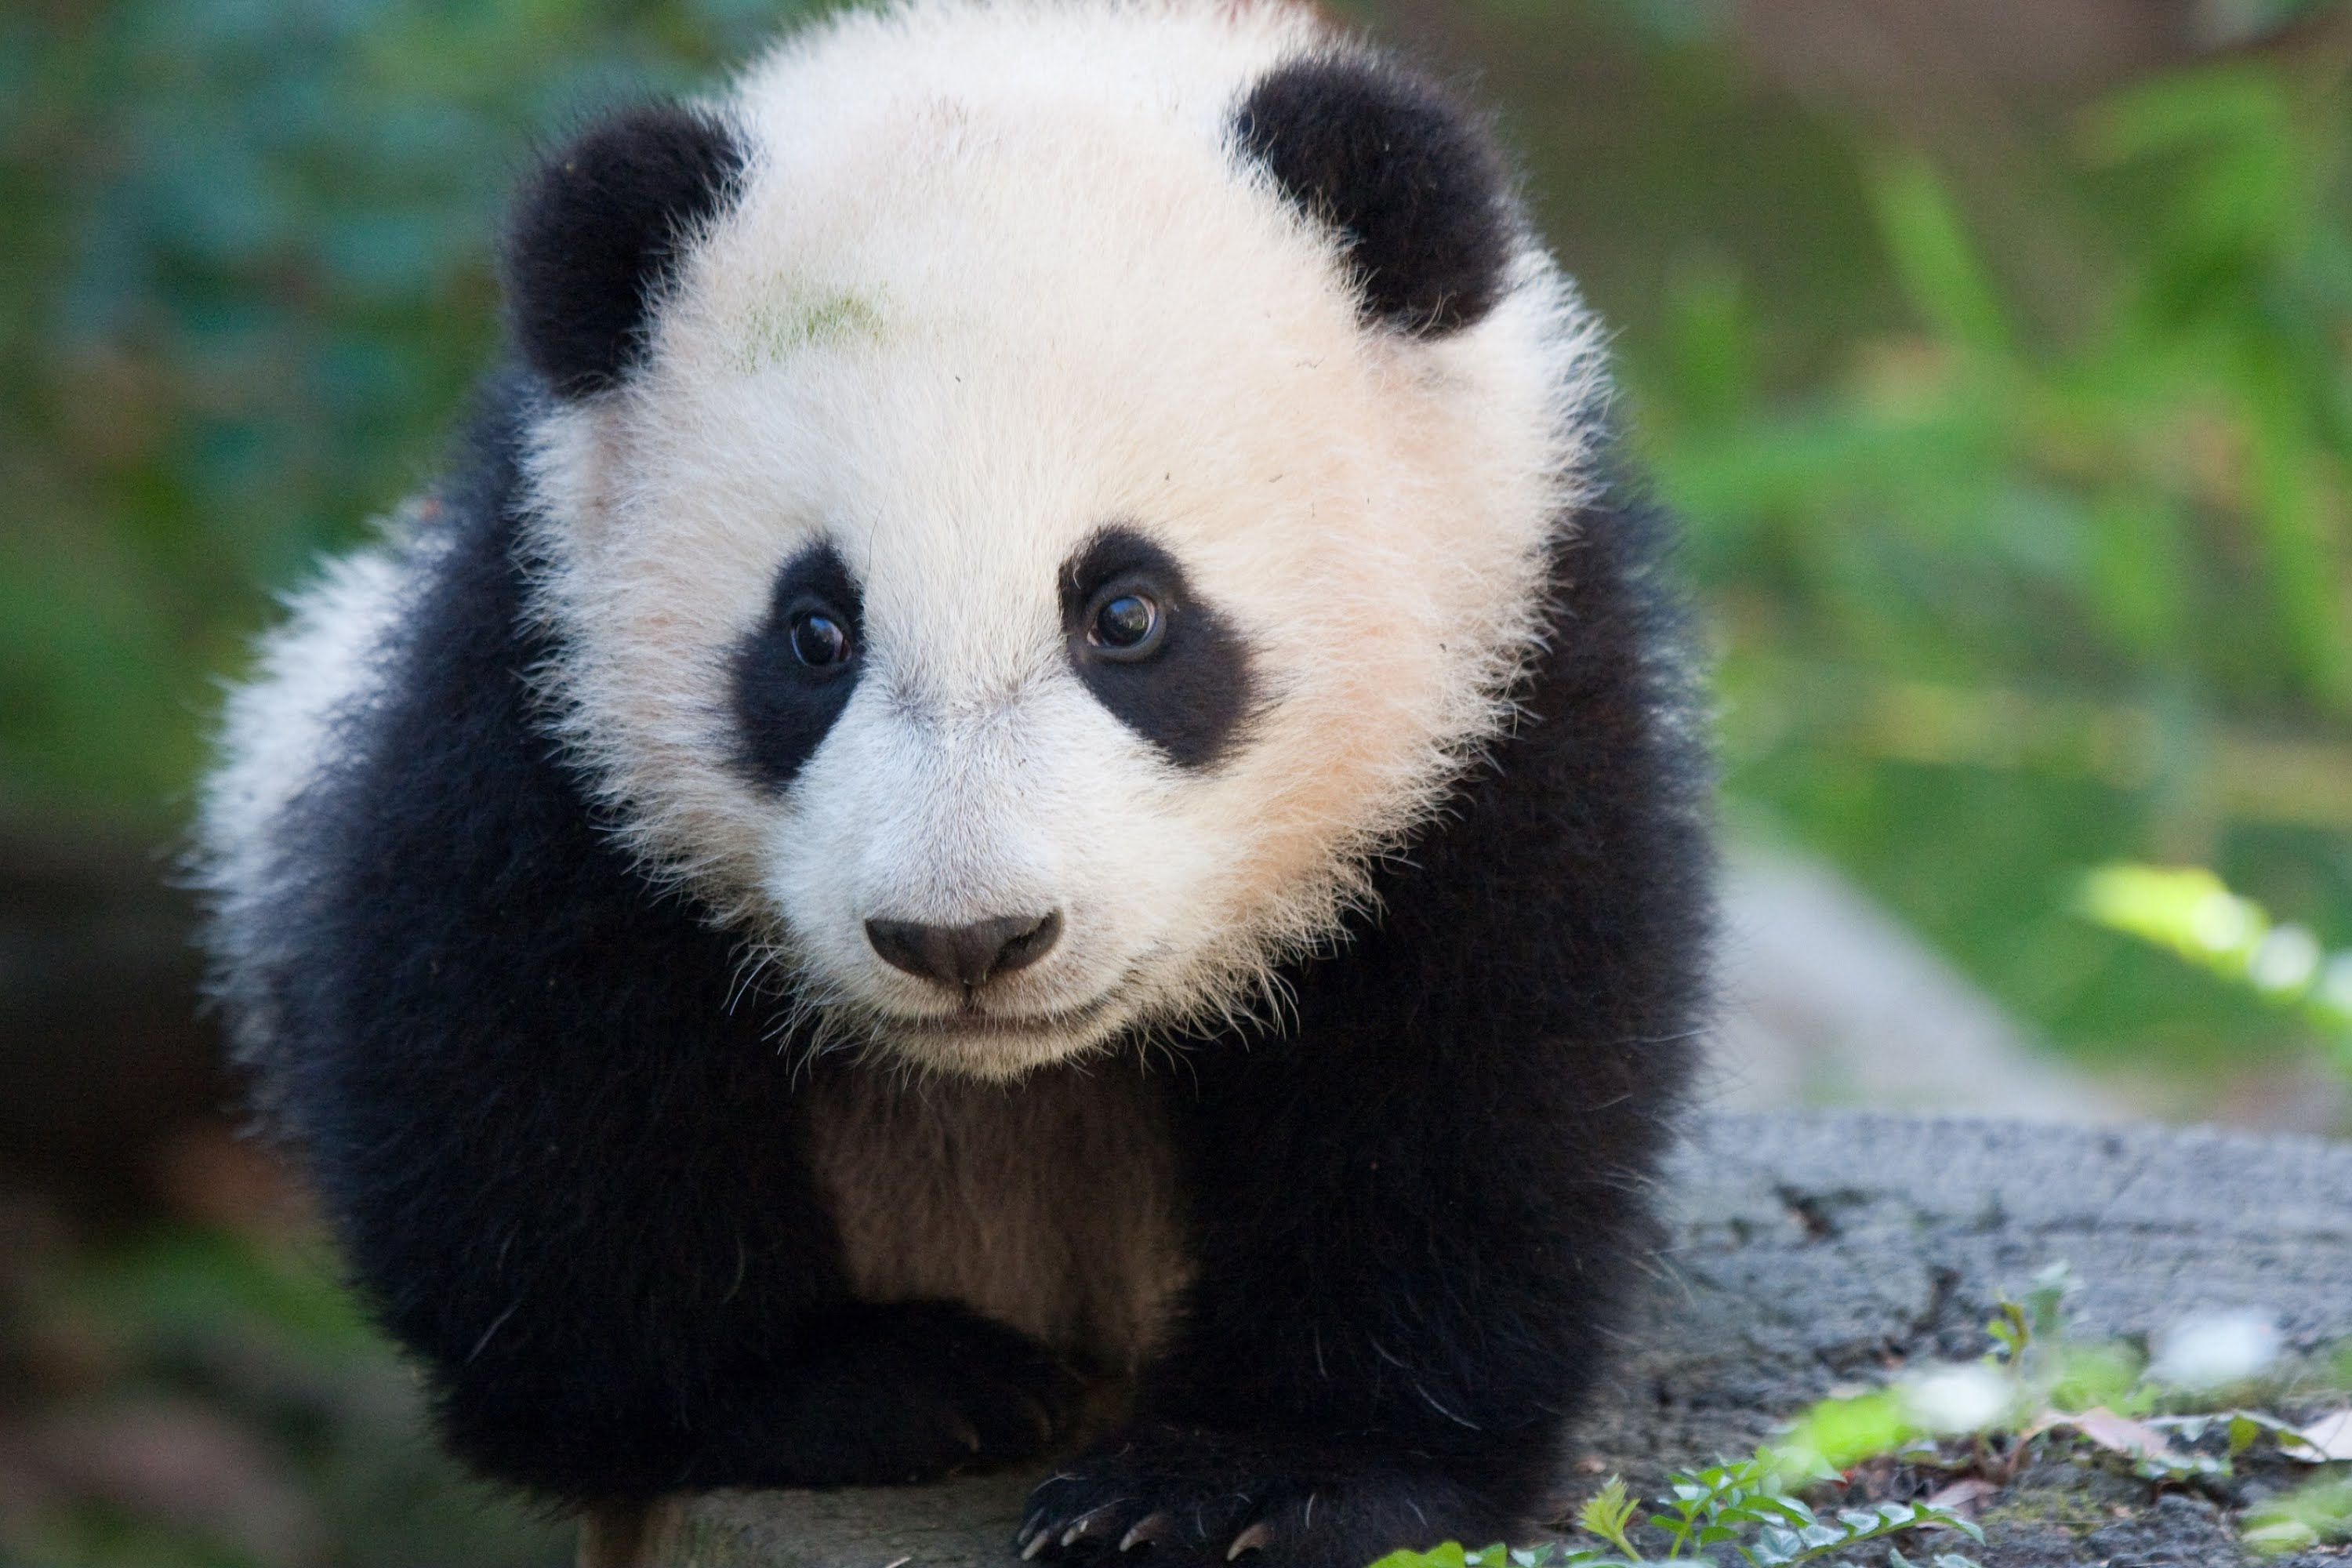panda: (143, 23, 1750, 1502)
